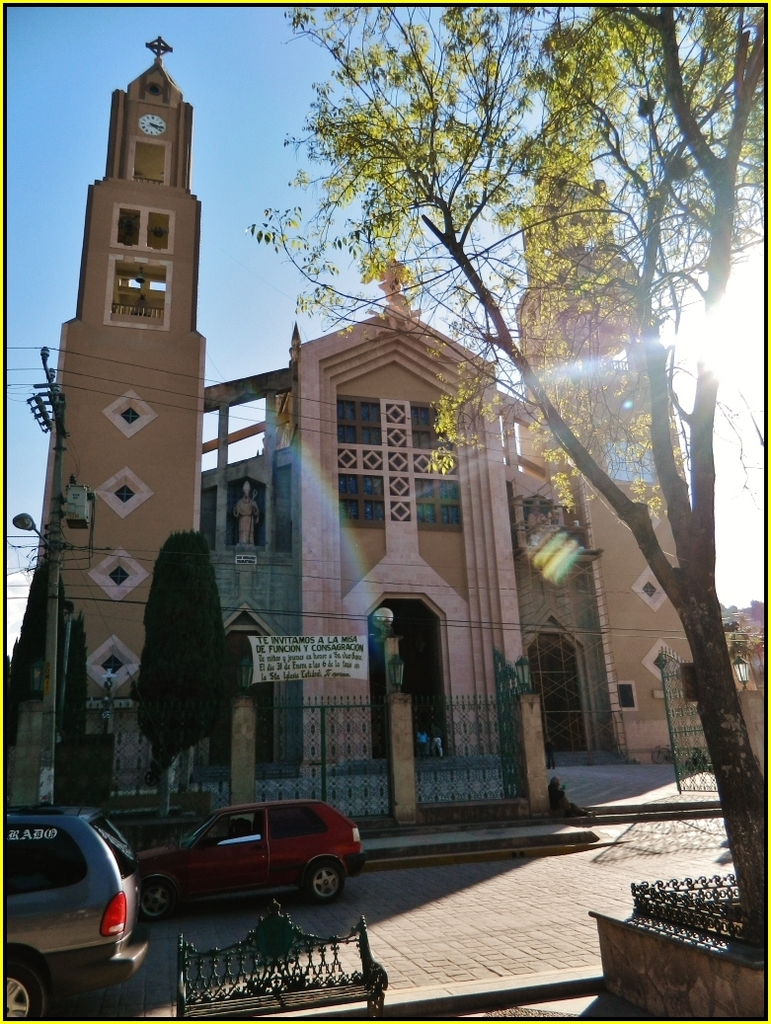Car: (132, 794, 365, 915)
